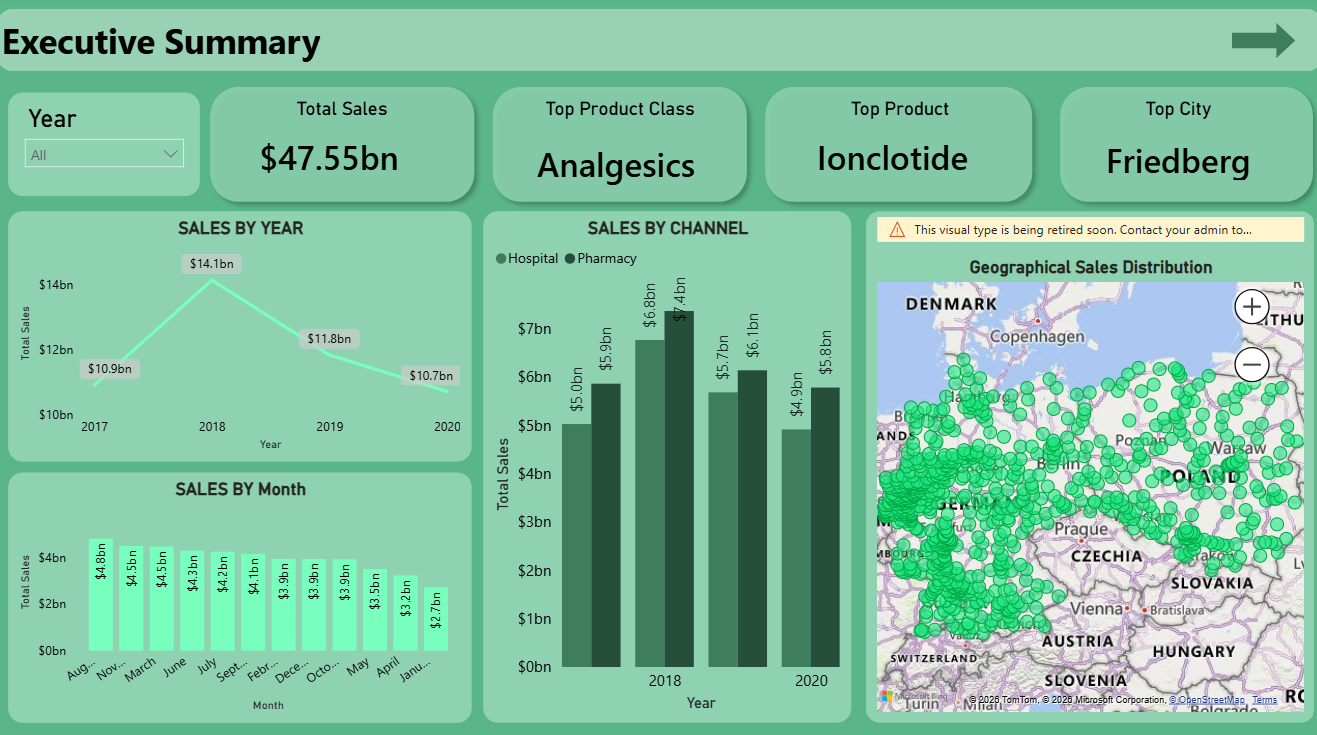

The dashboard page shown, as its layout file describes it:
{"tool":"powerbi","page":{"name":"Executive Summary","canvas":[1280,720],"ordinal":0},"visuals":[{"type":"shape","title":"Executive Summary","box":[0,13.7,1280.3,60.4],"z":0},{"type":"shape","box":[196.2,79.6,273.1,129],"z":1000},{"type":"cardVisual","title":"Total Sales","fields":{"Data":["FACT-sales.Total Sales"]},"box":[224,98.8,217,90.4],"z":2000},{"type":"shape","box":[732.8,79.6,275.8,129],"z":3000},{"type":"shape","box":[469.3,79.6,263.5,129],"z":4000},{"type":"shape","box":[1016.8,79.6,262.1,129],"z":5000},{"type":"cardVisual","title":"Top Product Class","fields":{"Data":["FACT-sales.Top Product Class"]},"box":[492.6,98.8,218.2,104.3],"z":6000},{"type":"cardVisual","title":"Top Product","fields":{"Data":["FACT-sales.Top Product"]},"box":[763,98.8,218.2,90.6],"z":7000},{"type":"cardVisual","title":"Top City","fields":{"Data":["FACT-sales.Top City"]},"box":[1008.6,98.8,263.5,97.4],"z":8000},{"type":"lineChart","title":"SALES BY YEAR","fields":{"Category":["FACT-sales.Year"],"Y":["FACT-sales.Total Sales"]},"box":[11,208.6,447.3,241.5],"z":10000},{"type":"clusteredColumnChart","title":"SALES BY Month","fields":{"Category":["FACT-sales.Month"],"Y":["FACT-sales.Total Sales"]},"box":[11,461.1,447.3,241.5],"z":11000},{"type":"map","title":"Geographical Sales Distribution","fields":{"Y":["DIM-city.Latitude"],"X":["DIM-city.Longitude"]},"box":[838.4,208.6,433.6,494],"z":12000},{"type":"clusteredColumnChart","title":"SALES BY CHANNEL","fields":{"Category":["FACT-sales.Year"],"Y":["FACT-sales.Total Sales"],"Series":["DIM-Channel.Channel"]},"box":[469.3,208.6,355.4,494],"z":13000},{"type":"slicer","fields":{"Values":["FACT-sales.Year"]},"box":[11.1,94.6,185,100.2],"z":16000},{"type":"shape","box":[1192.3,26.4,61.2,34.8],"z":17000}]}

Visuals, with their boxes in screenshot pixels (x1, y1, x2, y2), scaled from the page's 1280x720 canvas onto the 1317x735 screenshot:
"Executive Summary" shape: box(0, 14, 1316, 76)
shape: box(202, 81, 483, 213)
"Total Sales" cardVisual: box(230, 101, 454, 193)
shape: box(754, 81, 1038, 213)
shape: box(483, 81, 754, 213)
shape: box(1046, 81, 1316, 213)
"Top Product Class" cardVisual: box(507, 101, 731, 207)
"Top Product" cardVisual: box(785, 101, 1010, 193)
"Top City" cardVisual: box(1038, 101, 1309, 200)
"SALES BY YEAR" lineChart: box(11, 213, 472, 459)
"SALES BY Month" clusteredColumnChart: box(11, 471, 472, 717)
"Geographical Sales Distribution" map: box(863, 213, 1309, 717)
"SALES BY CHANNEL" clusteredColumnChart: box(483, 213, 849, 717)
slicer - FACT-sales.Year: box(11, 97, 202, 199)
shape: box(1227, 27, 1290, 62)
